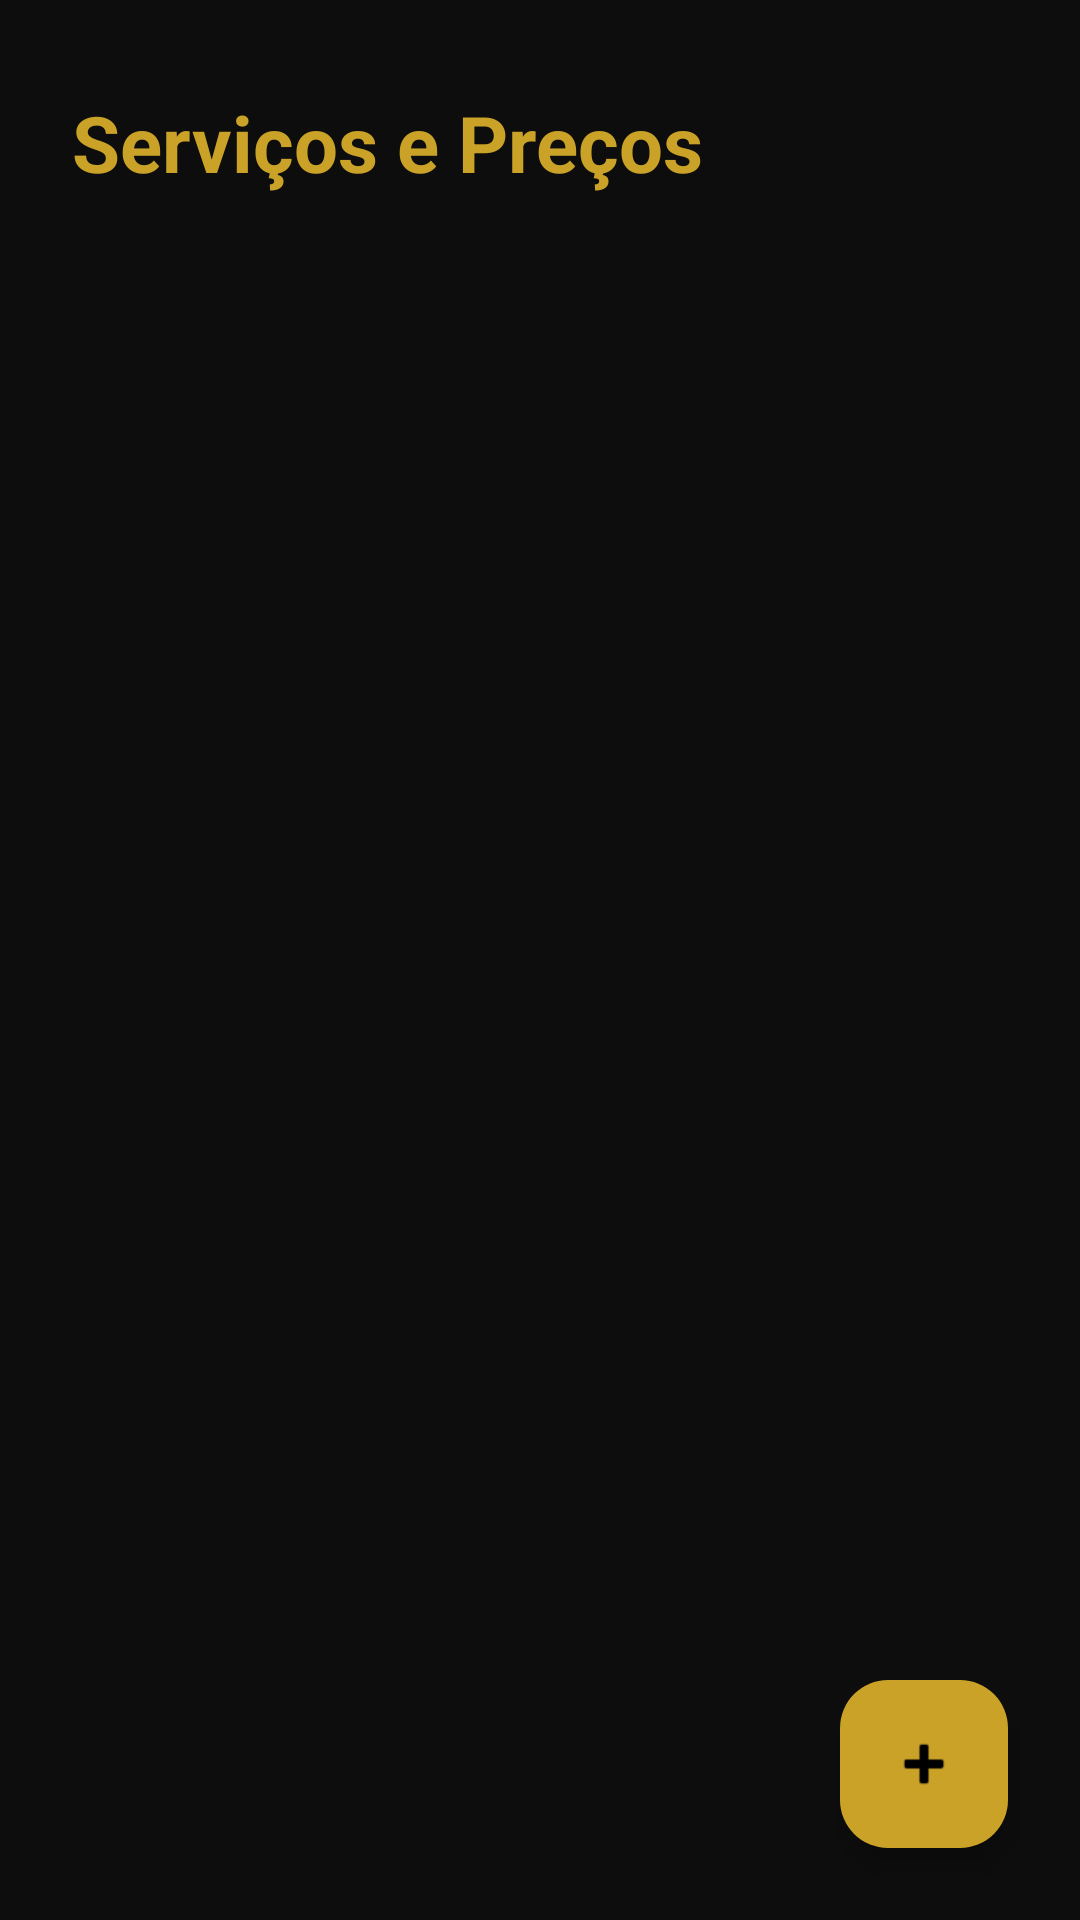

Where to tap for icons on this 1080px x 1920px app screen, as (x=x, y=y):
Novo serviço: (x=924, y=1764)
